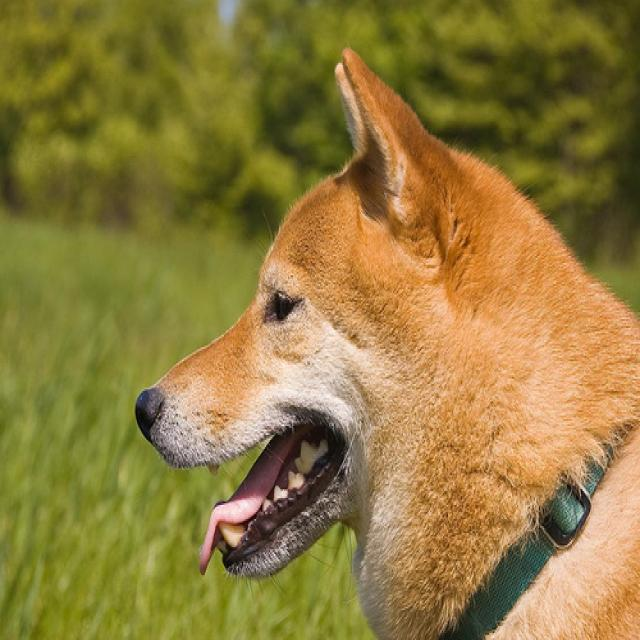dog: (133, 42, 476, 579)
